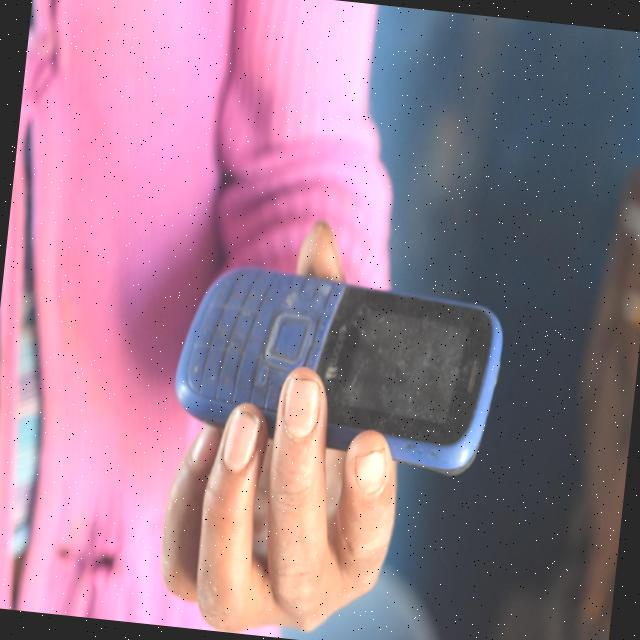Phone: (166, 260, 509, 482)
